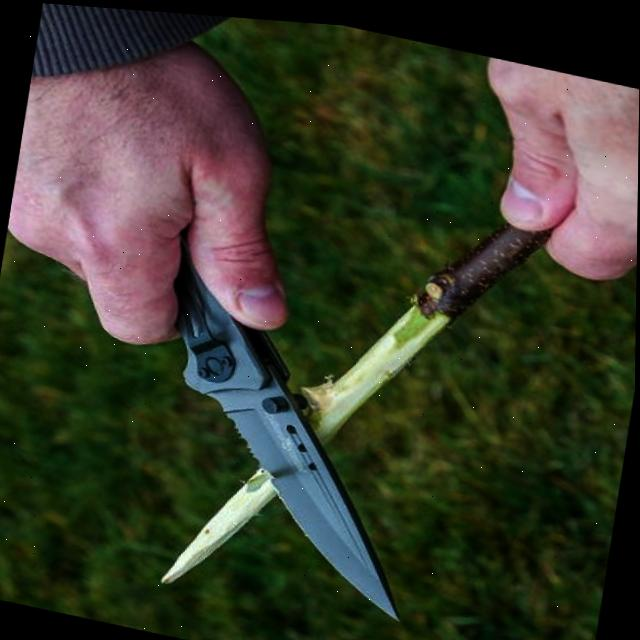knife: (124, 275, 472, 617)
